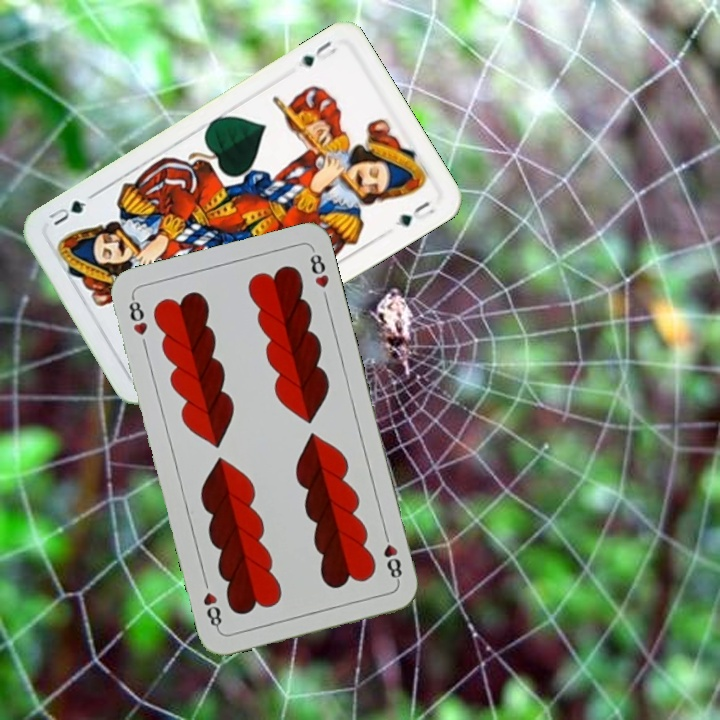GU: (296, 37, 339, 70)
H8: (379, 527, 405, 585), (124, 292, 150, 338)
